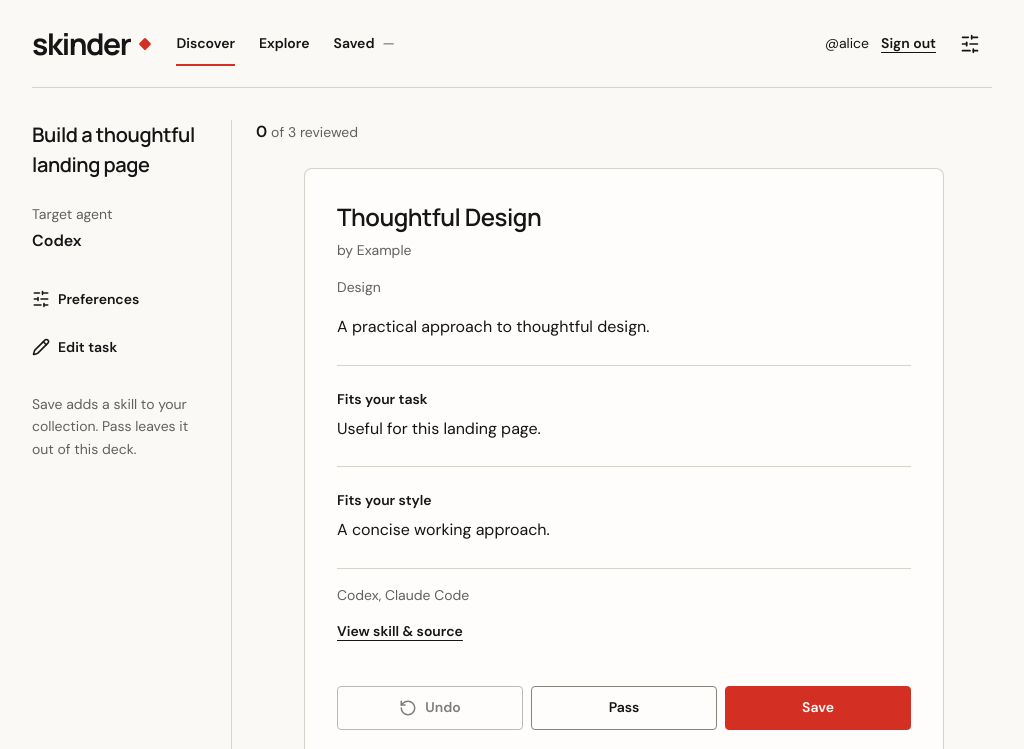
Test case: saved collection and undo recovery › offers a saved-items retry after a failed review invalidates the initial read
Click the button with aria-label "Save this skill": (818, 708) [725, 686, 911, 730]
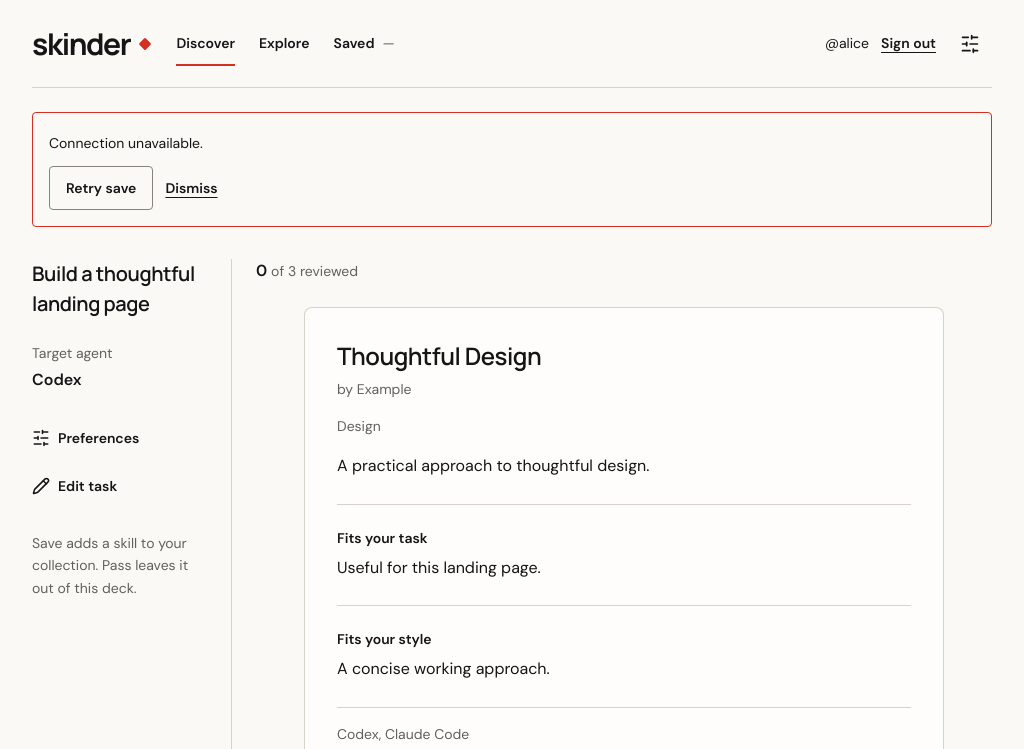
Now the button "Retry save" is shown, box [49, 166, 153, 210]
Click the button "Dismiss": (191, 188) [165, 166, 218, 210]
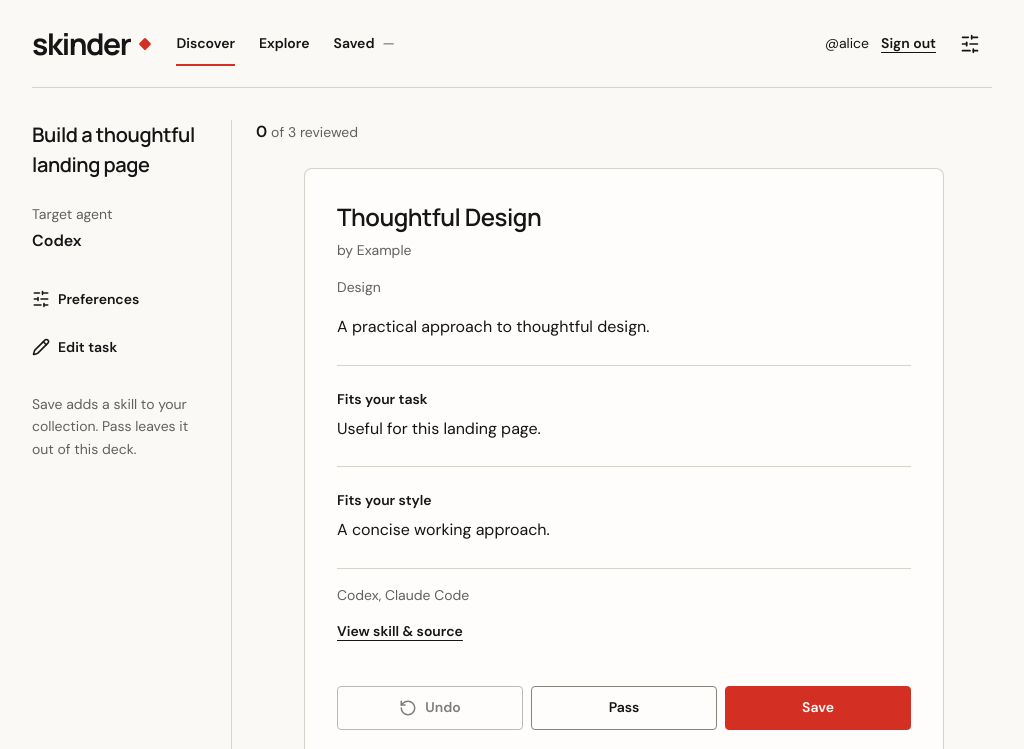
Click the link "Saved —": (364, 43) [334, 34, 395, 52]
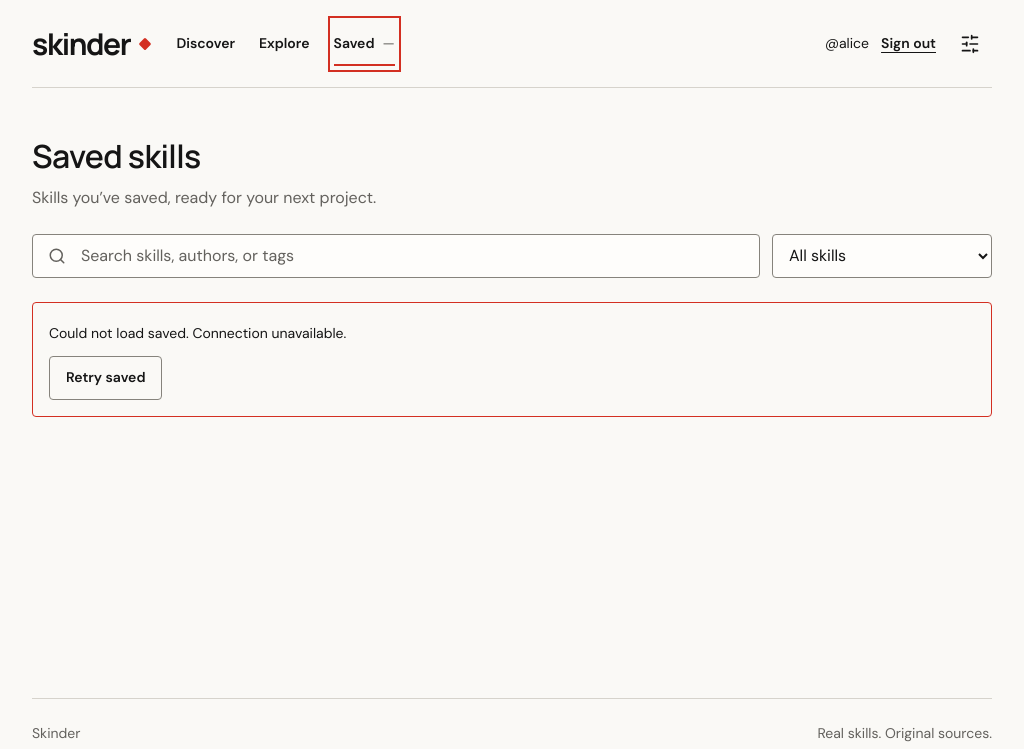
Click the button "Retry saved": (106, 378) [49, 356, 162, 400]
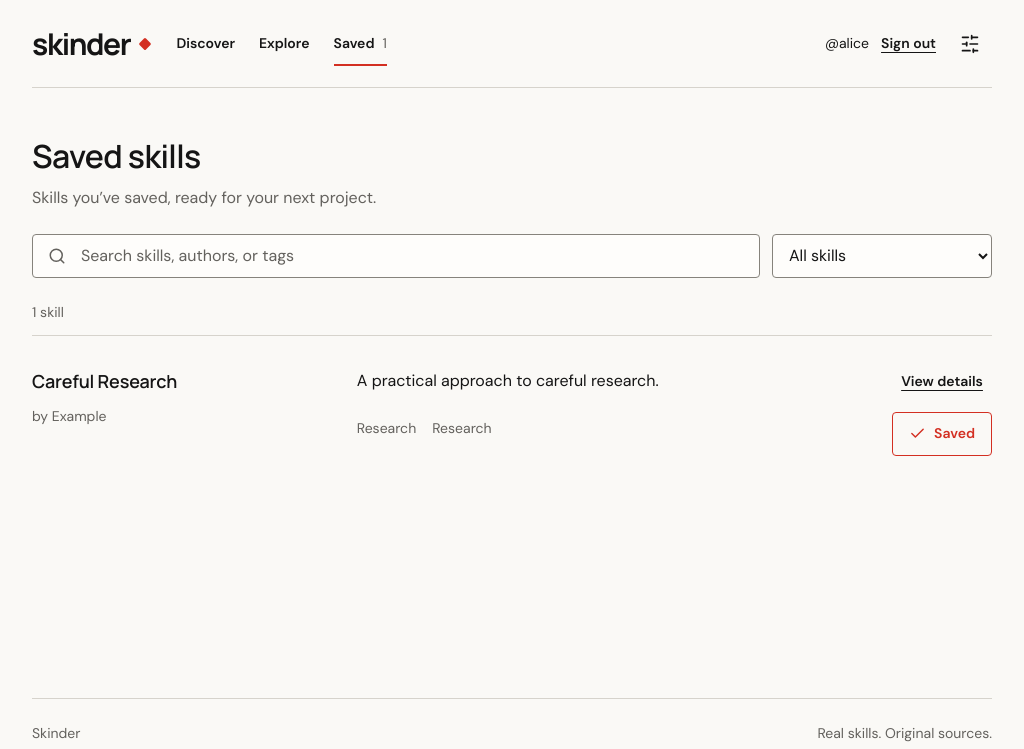
Now the heading "Careful Research" is shown, box [32, 360, 177, 404]
